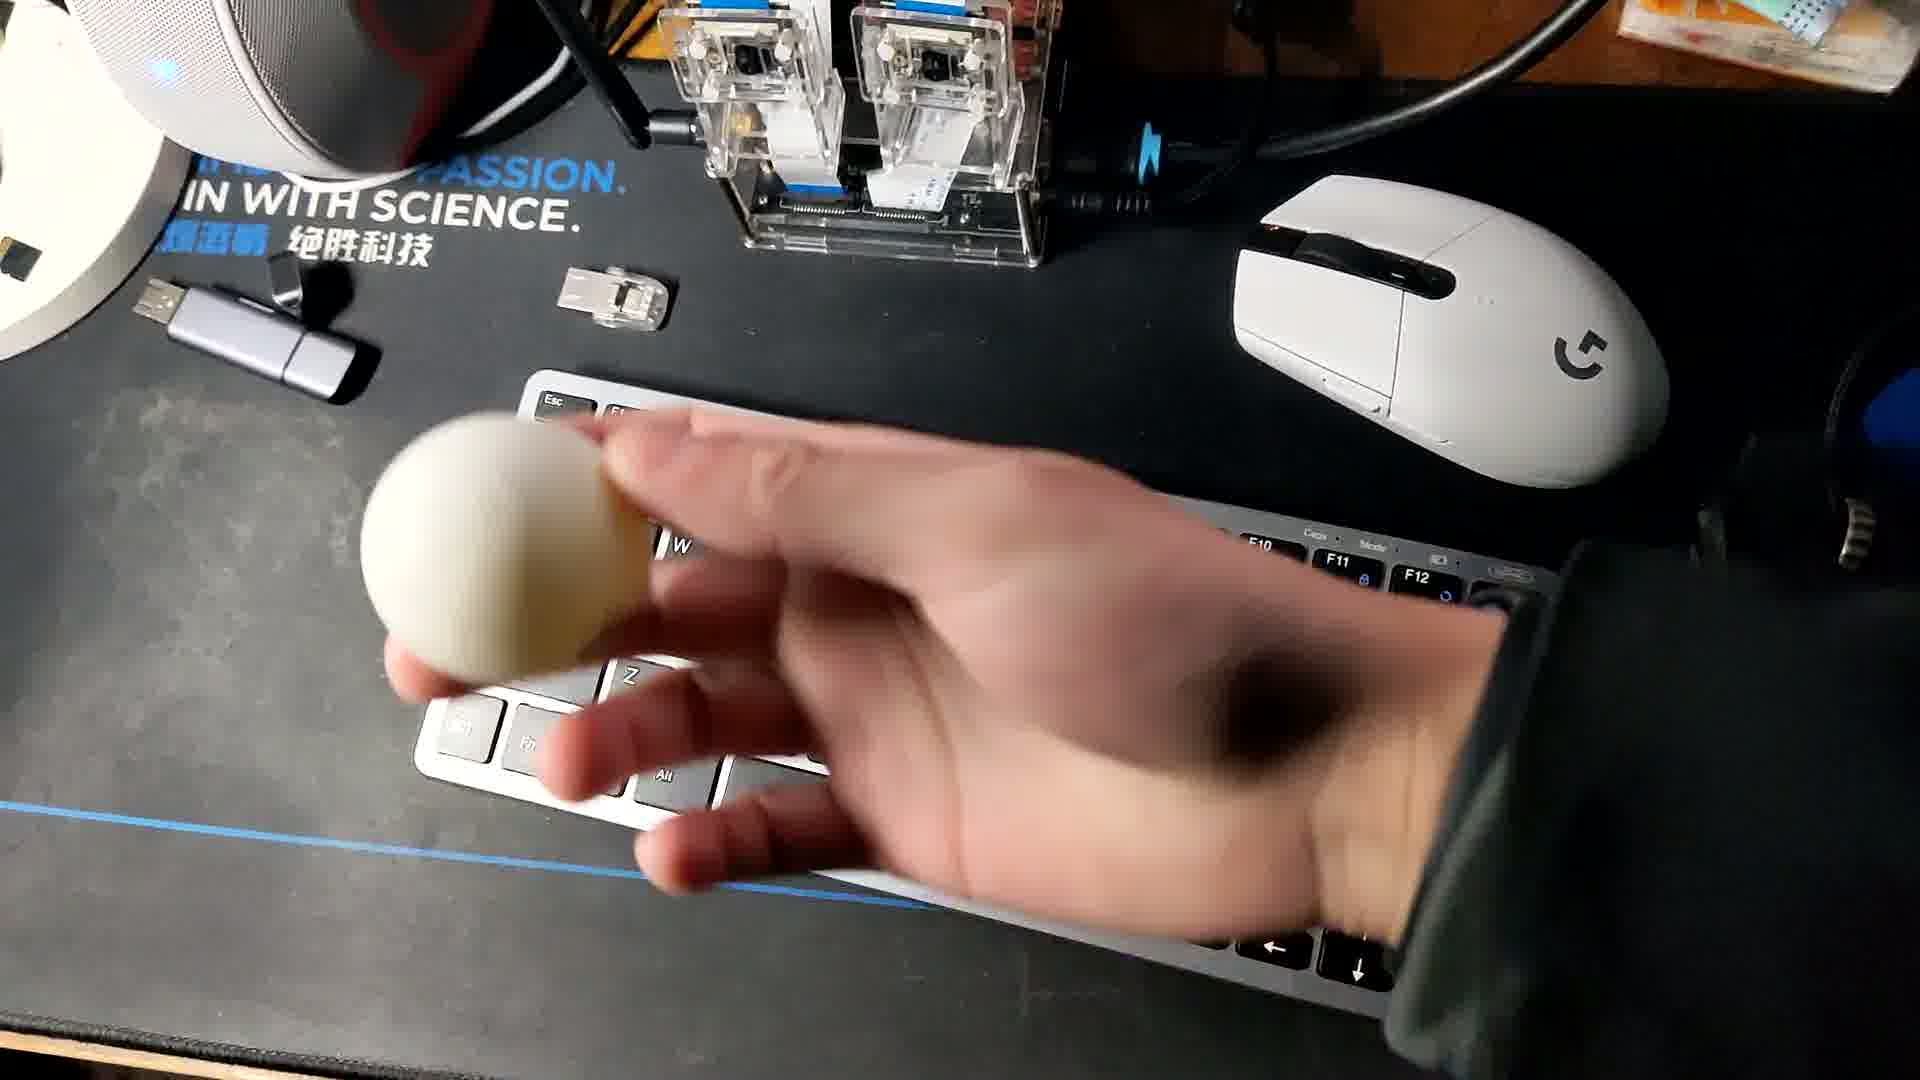Ball: (355, 405, 651, 680)
